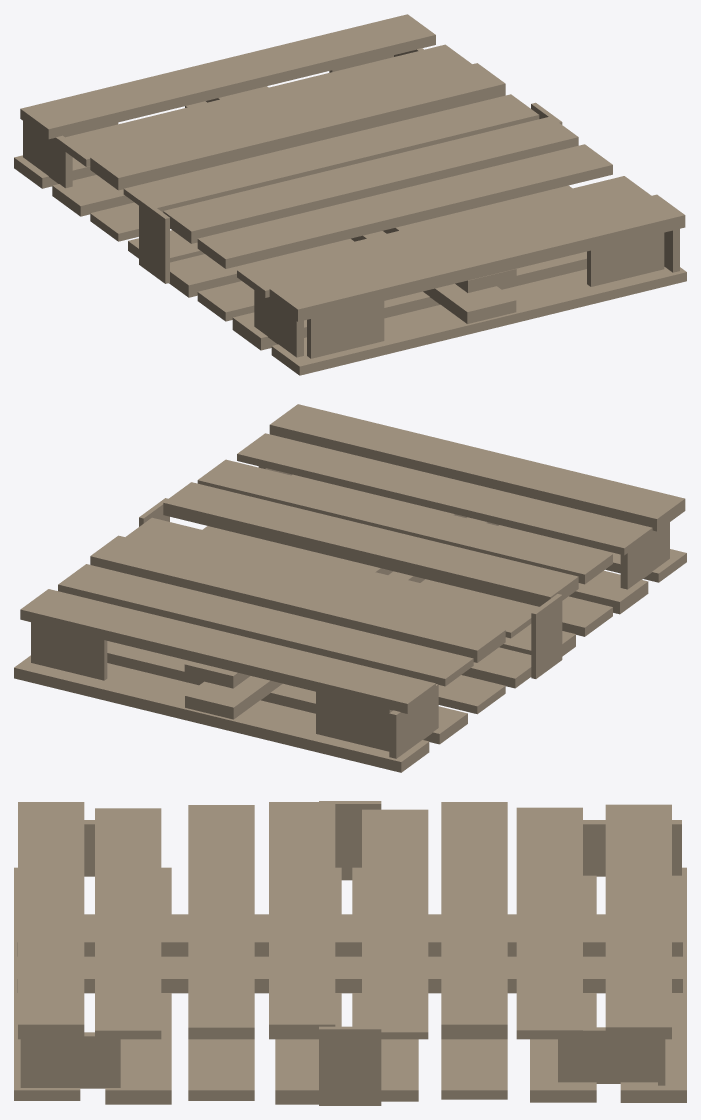
File: Wooden_Palette.fbx
3 renders of one model, top to bottom at view 1: azimuth 30°, elevation 25°; view 2: azimuth 150°, elevation 25°; view 3: azimuth 270°, elevation 25°, orthographic. The views are drawn at different scales.
Visible parts, largest first — view 1: pCube33; view 2: pCube33; view 3: pCube33.
Part boxes in pixels (<box>): pCube33: <box>14,14,686,375</box>; pCube33: <box>14,404,686,772</box>; pCube33: <box>14,801,686,1105</box>.
Bounding box in the file's own units: 0.801 × 0.1313 × 0.9981.
